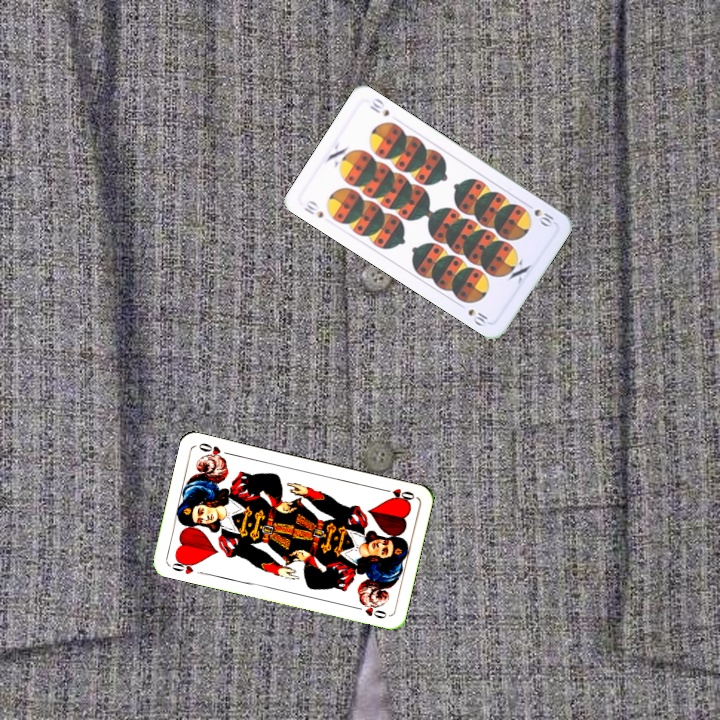HO: (378, 484, 417, 505), (166, 555, 200, 577)
S10: (522, 199, 558, 230), (300, 196, 326, 221)
